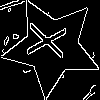X: (27, 22, 76, 61)
